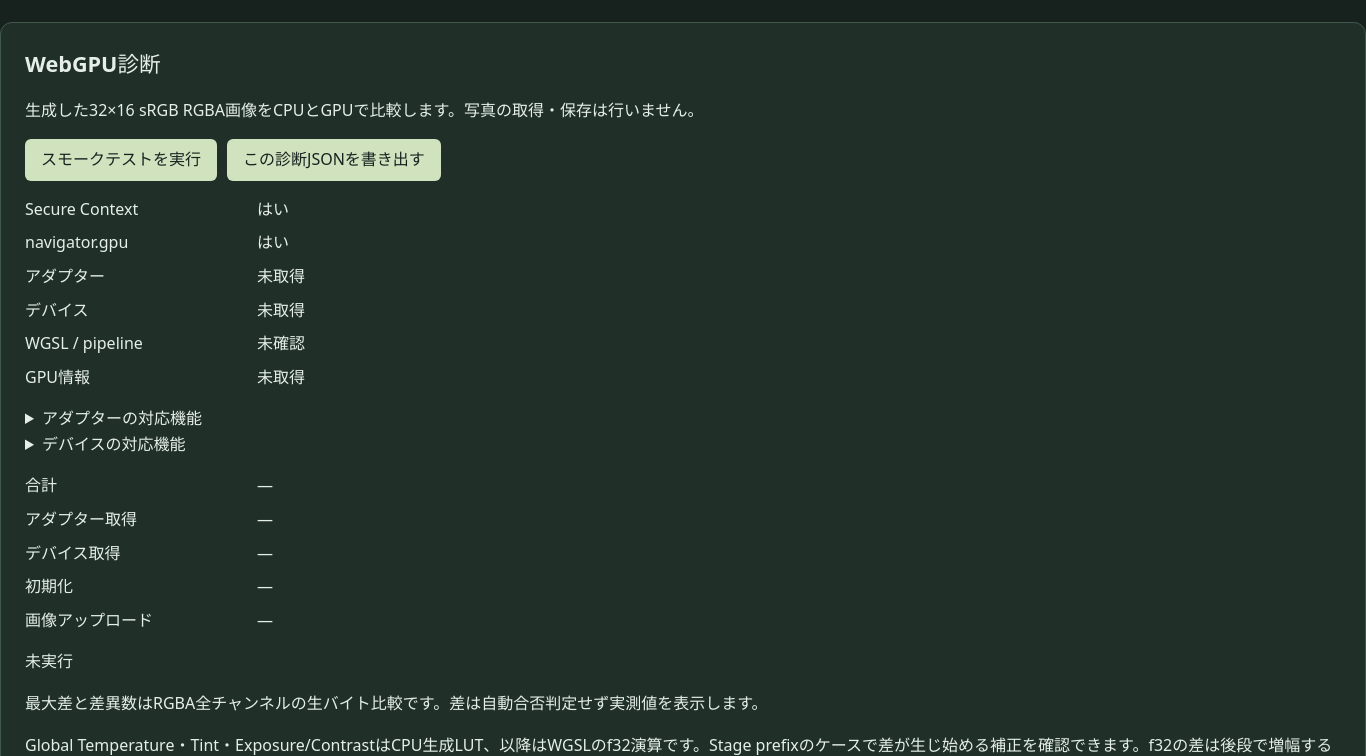
translates successful execution and safely shows optional adapter info in ja
What coordinates should you click on to do the following:
click the button "スモークテストを実行"
I would click on:
 (121, 160)
Its box is x1=25 y1=139 x2=217 y2=181.
(page scrolled)
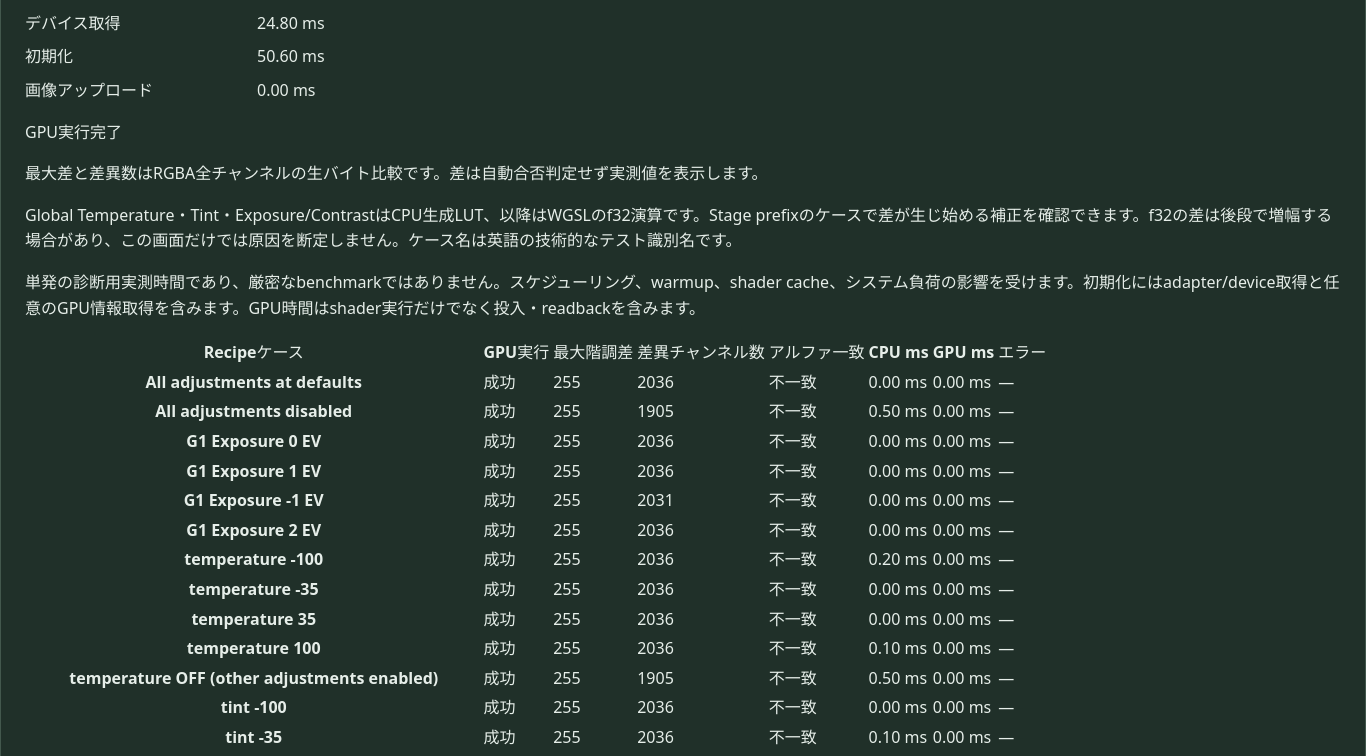
Check: the text "GPU実行完了" is shown, box x1=25 y1=121 x2=122 y2=143
Check: the row that starts with "All adjustments at defaults" reads "All adjustments at defaults 成功 255 2036 不一致 0.00 ms 0.00 ms —", box x1=869 y1=371 x2=927 y2=393
